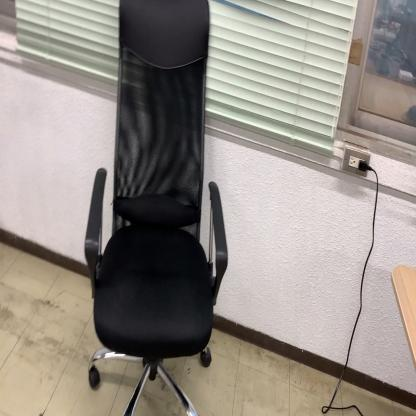chair: (84, 0, 230, 414)
